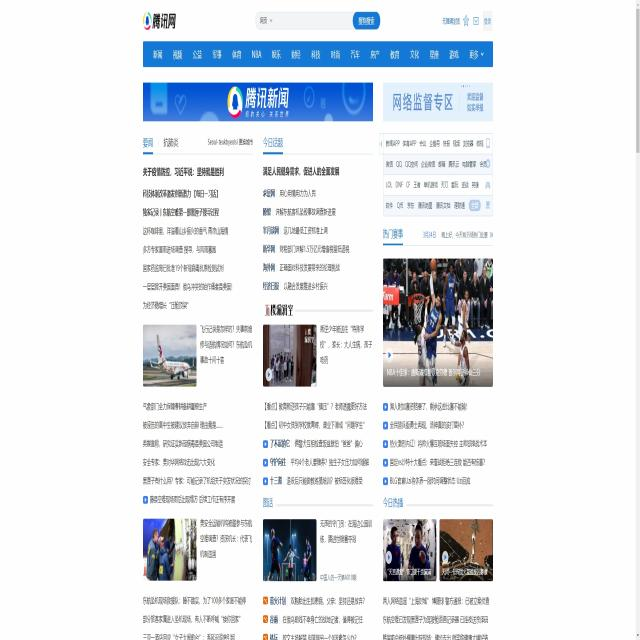menu-bar: (440, 10, 495, 34)
search: (254, 8, 383, 34)
side-panel: (380, 78, 496, 640)
tab-bar: (143, 41, 490, 65)
